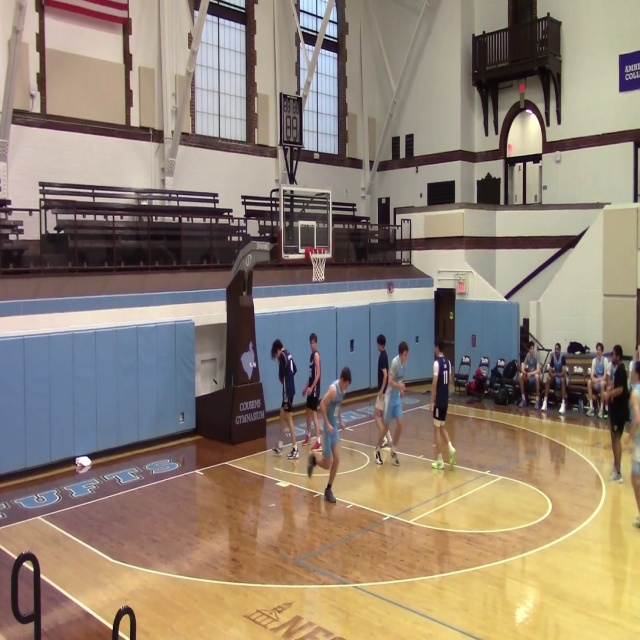Basketball: (75, 456, 92, 473)
